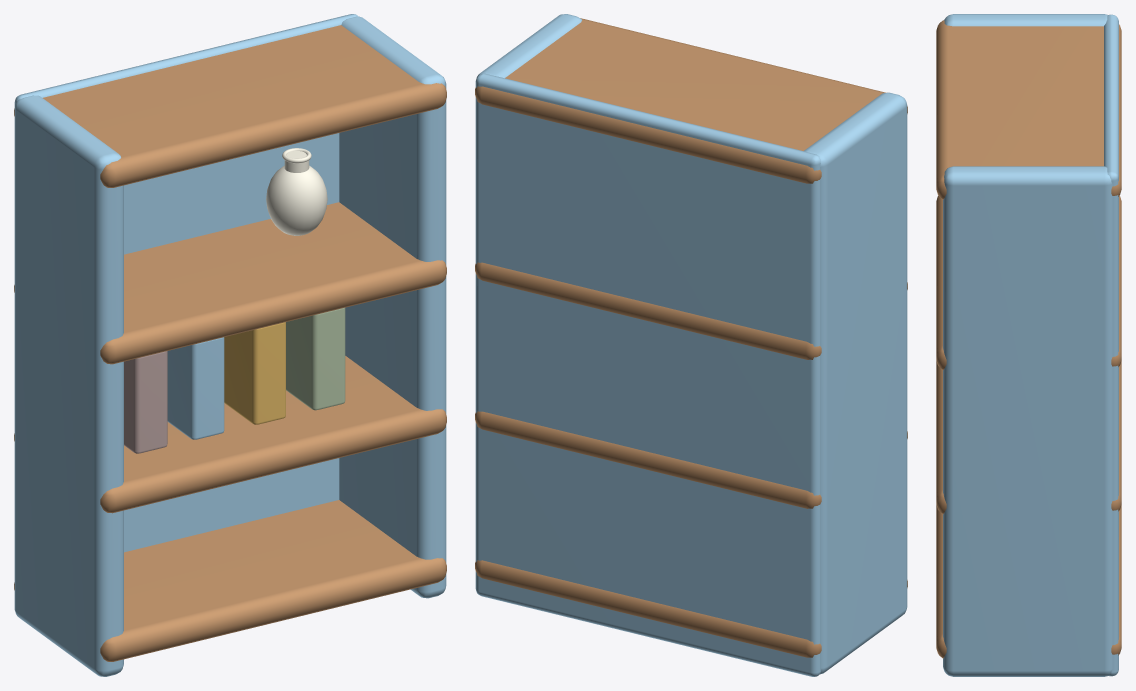
File: officeLongRack.glb
3 views of the same model, side by side, from view 1: azimuth 30°, elevation 25°; view 2: azimuth 150°, elevation 25°; view 3: azimuth 270°, elevation 25° (orthographic). The views are drawn at different scales.
Visible parts, largest first — view 1: Shelf side, Shelf side.001, Shelf.003, Shelf, Shelf.002, Shelf back, Shelf.001, Book.002, Book.003, Book.001, Book, Vase belly; view 2: Shelf back, Shelf side, Shelf.003, Shelf, Shelf.001, Shelf.002, Shelf side.001; view 3: Shelf side.001, Shelf.003, Shelf back, Shelf side, Shelf.002, Shelf.001, Shelf.
Part boxes in pixels (box(x1,y1,x2,y2)): Shelf side: box(14, 95, 123, 676); Shelf side.001: box(339, 16, 446, 598); Shelf.003: box(14, 25, 446, 187); Shelf: box(14, 500, 446, 661); Shelf.002: box(14, 202, 446, 364); Shelf back: box(14, 14, 358, 552); Shelf.001: box(14, 356, 446, 513); Book.002: box(224, 322, 285, 424); Book.003: box(286, 307, 345, 410); Book.001: box(167, 337, 224, 439); Book: box(124, 351, 167, 453); Vase belly: box(266, 165, 327, 235); Shelf back: box(475, 73, 820, 676); Shelf side: box(804, 92, 907, 674); Shelf.003: box(475, 18, 907, 183); Shelf: box(475, 560, 907, 657); Shelf.001: box(475, 411, 907, 508); Shelf.002: box(475, 262, 907, 359); Shelf side.001: box(476, 14, 581, 78); Shelf side.001: box(943, 166, 1112, 676); Shelf.003: box(936, 20, 1121, 199); Shelf back: box(1104, 14, 1118, 676); Shelf side: box(944, 14, 1107, 26); Shelf.002: box(936, 195, 1121, 369); Shelf.001: box(936, 361, 1121, 514); Shelf: box(936, 505, 1121, 658).
Size of the model in its own units: 1.48 by 2.1 by 0.7.
